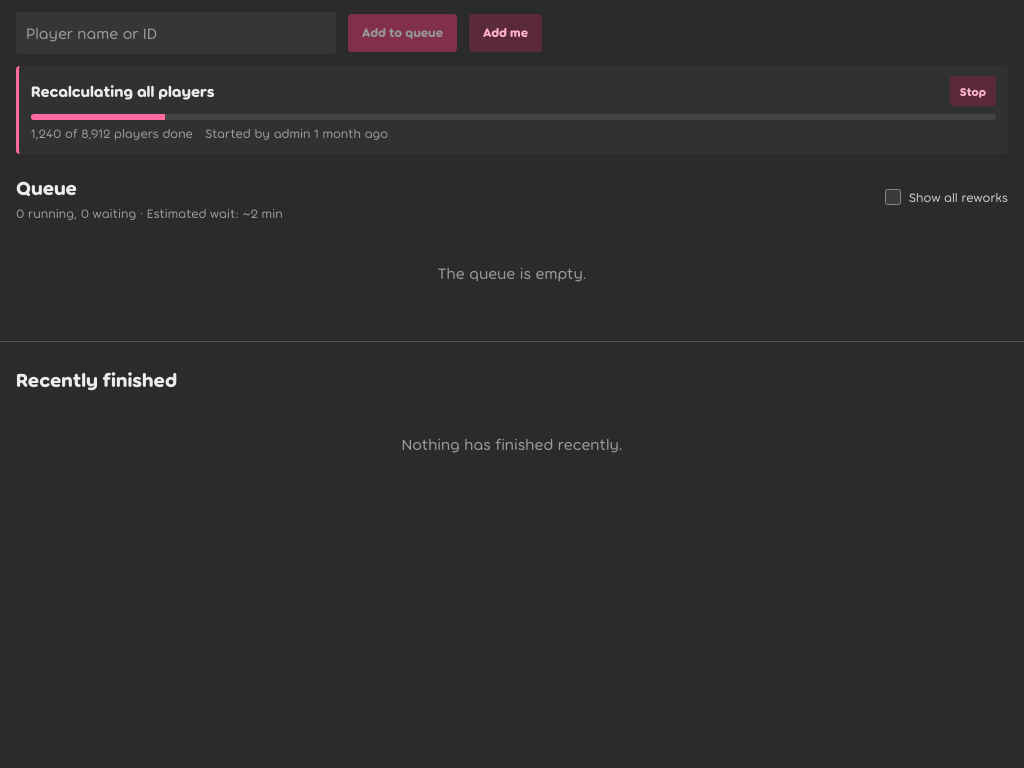
Test: QueueTab › the full run strip › shows why Stop failed
The width and height of the screenshot is (1024, 768).
Step 1. Click the button "Stop" → (973, 91), box [950,76,996,106]
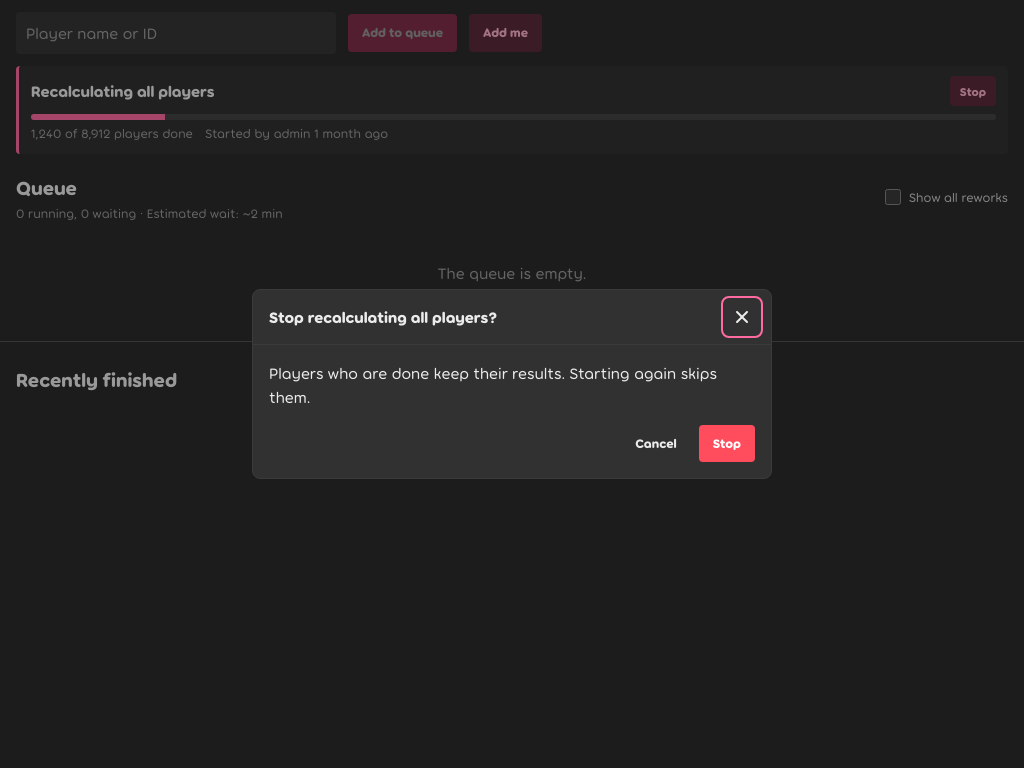
Step 2. Click the button "Stop" → (727, 444), box [699,425,755,462]
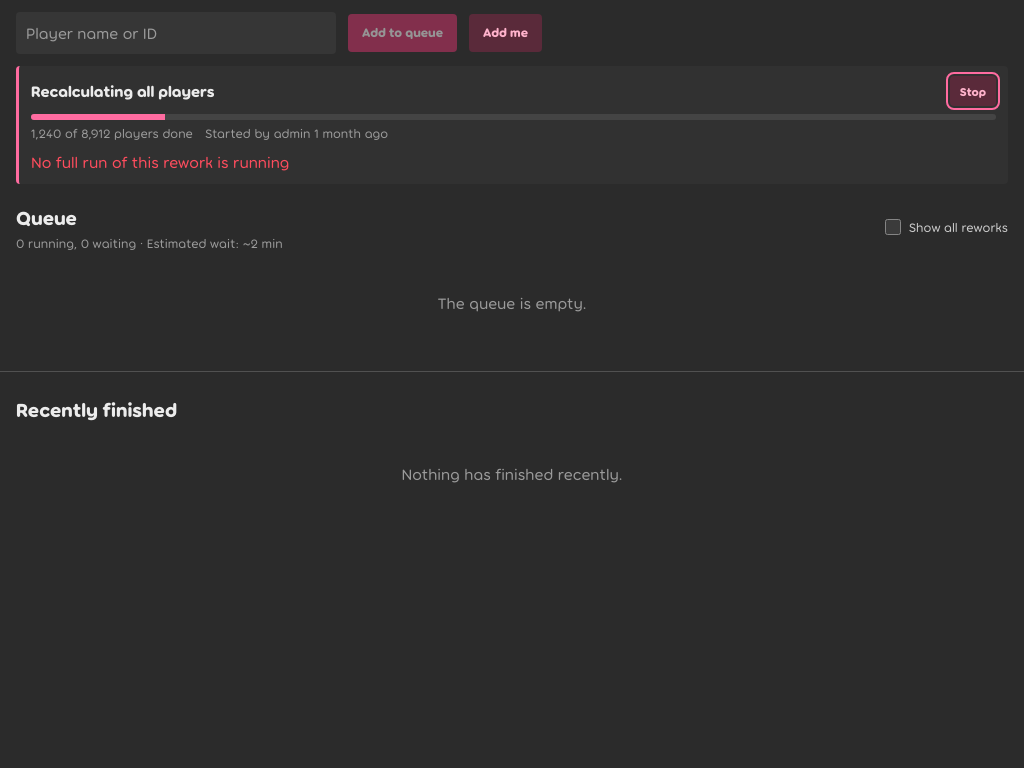
Now the text "No full run of this rework is running" is shown, box [31,152,290,170]
